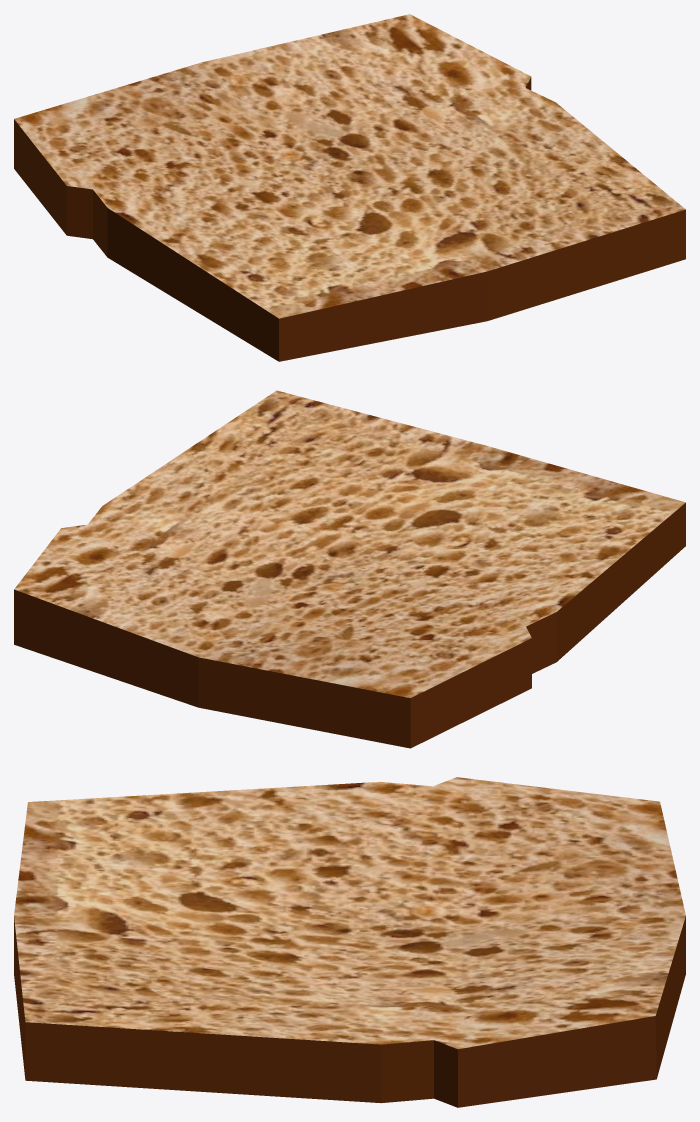
File: bread.glb
3 renders of one model, top to bottom at view 1: azimuth 30°, elevation 25°; view 2: azimuth 150°, elevation 25°; view 3: azimuth 270°, elevation 25°, orthographic. The views are drawn at different scales.
Visible parts, largest first — view 1: Cube; view 2: Cube; view 3: Cube.
Part boxes in pixels (x1=…): Cube: x1=14, y1=14, x2=685, y2=361; Cube: x1=14, y1=390, x2=685, y2=748; Cube: x1=14, y1=777, x2=685, y2=1107.
Bounding box in the file's own units: 0.3997 × 0.0492 × 0.4252.
2 materials, 1 textured.
